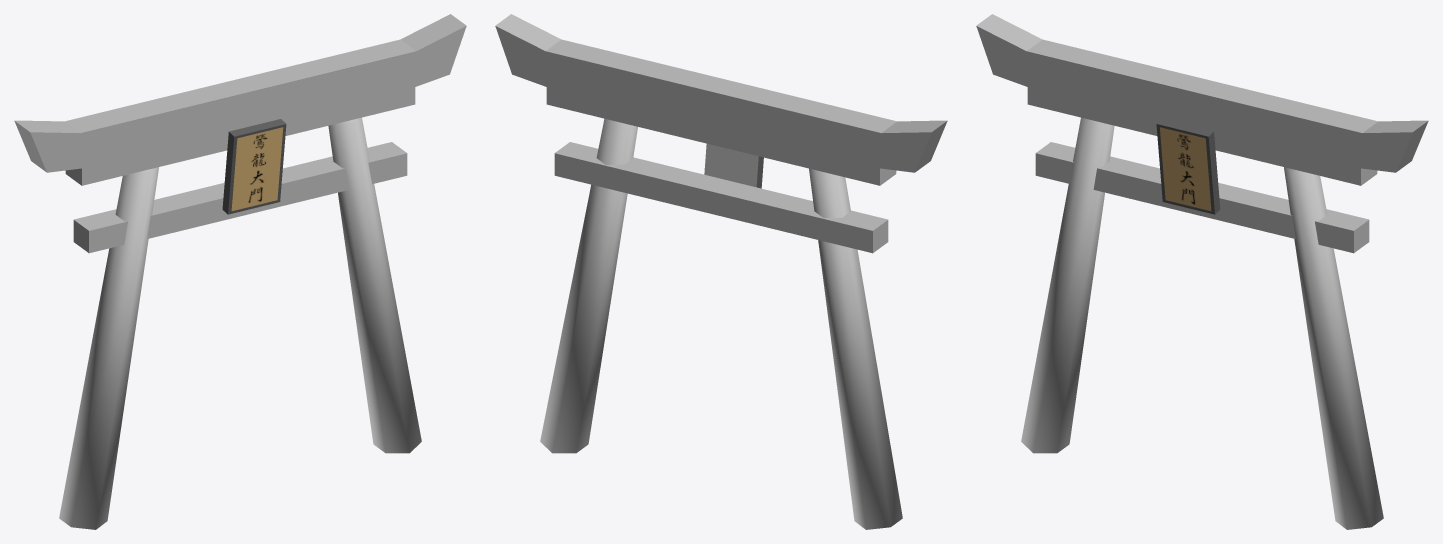
File: Japanese_Torii_Gate_Low-Poly_3D_Model.glb
The picture shows the model from 3 angles, left to right: view 1: azimuth 30°, elevation 25°; view 2: azimuth 150°, elevation 25°; view 3: azimuth 330°, elevation 25°; orthographic projection.
Bounding box in the file's own units: 8.05 × 7.22 × 1.03.
Materials: 4 (3 with a texture image).
